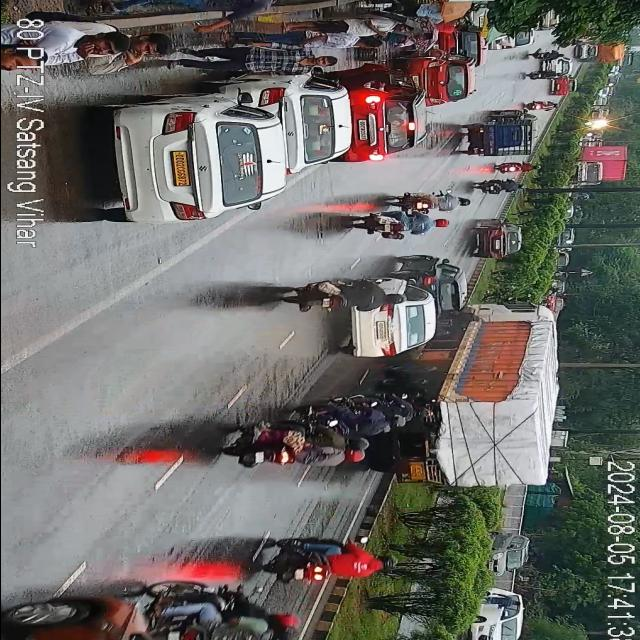2-wheelers: (136, 586, 317, 640), (223, 418, 371, 468), (260, 532, 388, 585), (286, 274, 398, 312), (301, 398, 427, 428), (392, 182, 468, 224), (354, 208, 442, 242), (474, 175, 520, 198), (494, 164, 532, 182), (526, 100, 556, 118), (526, 67, 556, 83), (528, 50, 561, 64)
auto: (459, 116, 524, 161)
car: (108, 82, 286, 228), (240, 86, 354, 168), (0, 599, 191, 640), (348, 274, 431, 360), (348, 80, 421, 162), (398, 256, 462, 322), (560, 146, 630, 188), (413, 52, 467, 106), (469, 591, 527, 640), (486, 536, 534, 576), (470, 218, 504, 260), (546, 58, 574, 76), (552, 76, 574, 98), (572, 42, 596, 61)
pedestrian: (36, 24, 170, 80), (196, 41, 342, 81), (277, 19, 419, 42), (262, 29, 376, 52)
truck: (393, 306, 563, 498), (594, 42, 626, 62), (614, 54, 636, 68)
